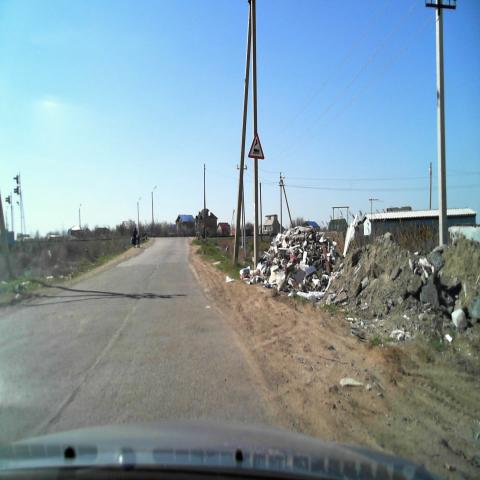1_2: (247, 132, 265, 160)
